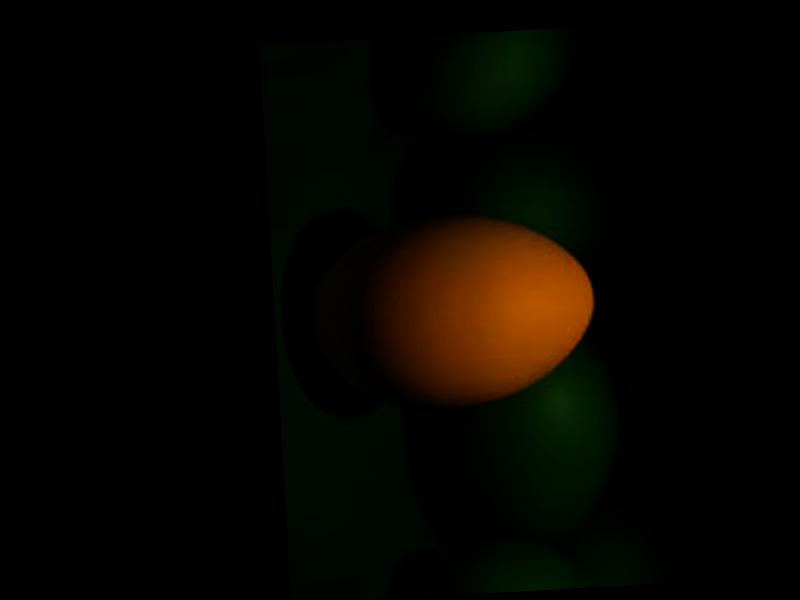Eggs: (303, 206, 598, 415)
